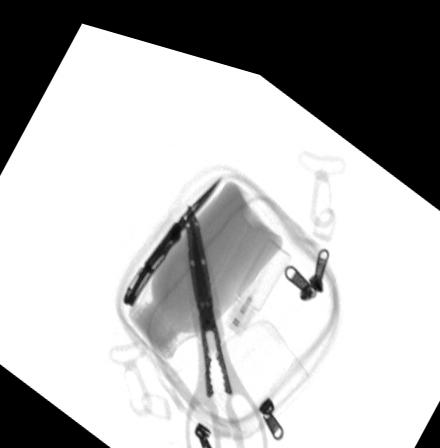Knife: (122, 165, 221, 299)
Scissors: (182, 193, 269, 448)
